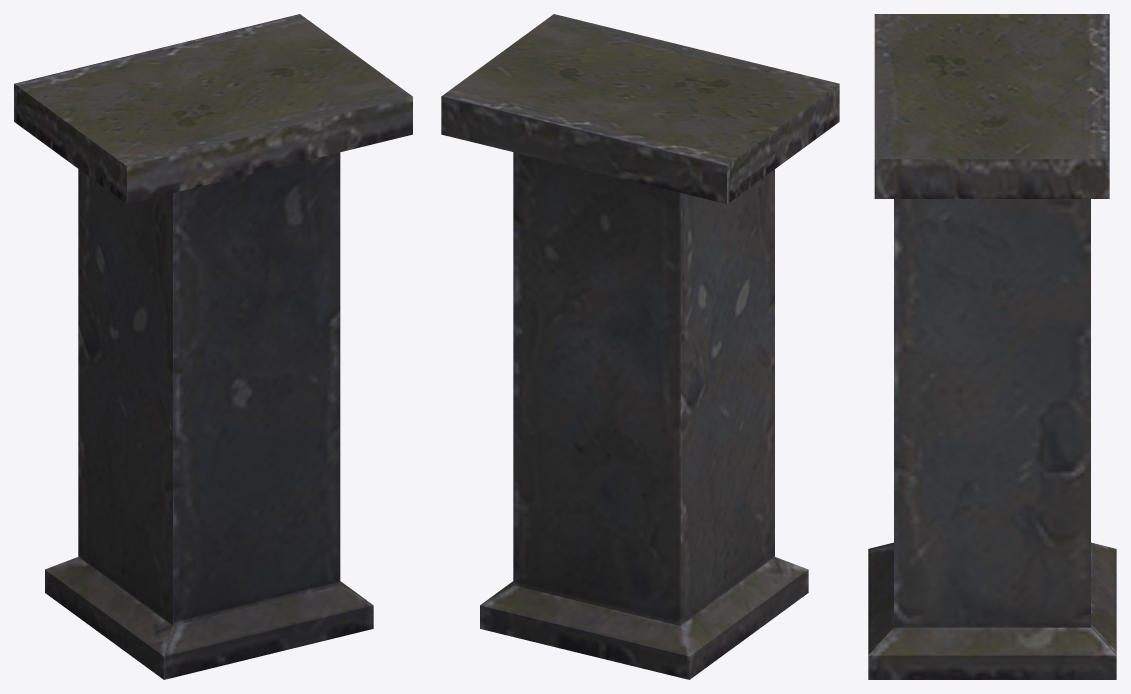
The picture shows the model from 3 angles, left to right: view 1: azimuth 30°, elevation 25°; view 2: azimuth 150°, elevation 25°; view 3: azimuth 270°, elevation 25°; orthographic projection. The views are drawn at different scales.
Visible parts, largest first — view 1: s_0006_fs_02; view 2: s_0006_fs_02; view 3: s_0006_fs_02.
Part boxes in pixels (bbox=[...]): s_0006_fs_02: bbox=[14, 14, 412, 679]; s_0006_fs_02: bbox=[441, 14, 839, 679]; s_0006_fs_02: bbox=[868, 14, 1116, 679].
Size of the model in its own units: 27.77 by 48.25 by 20.02.
